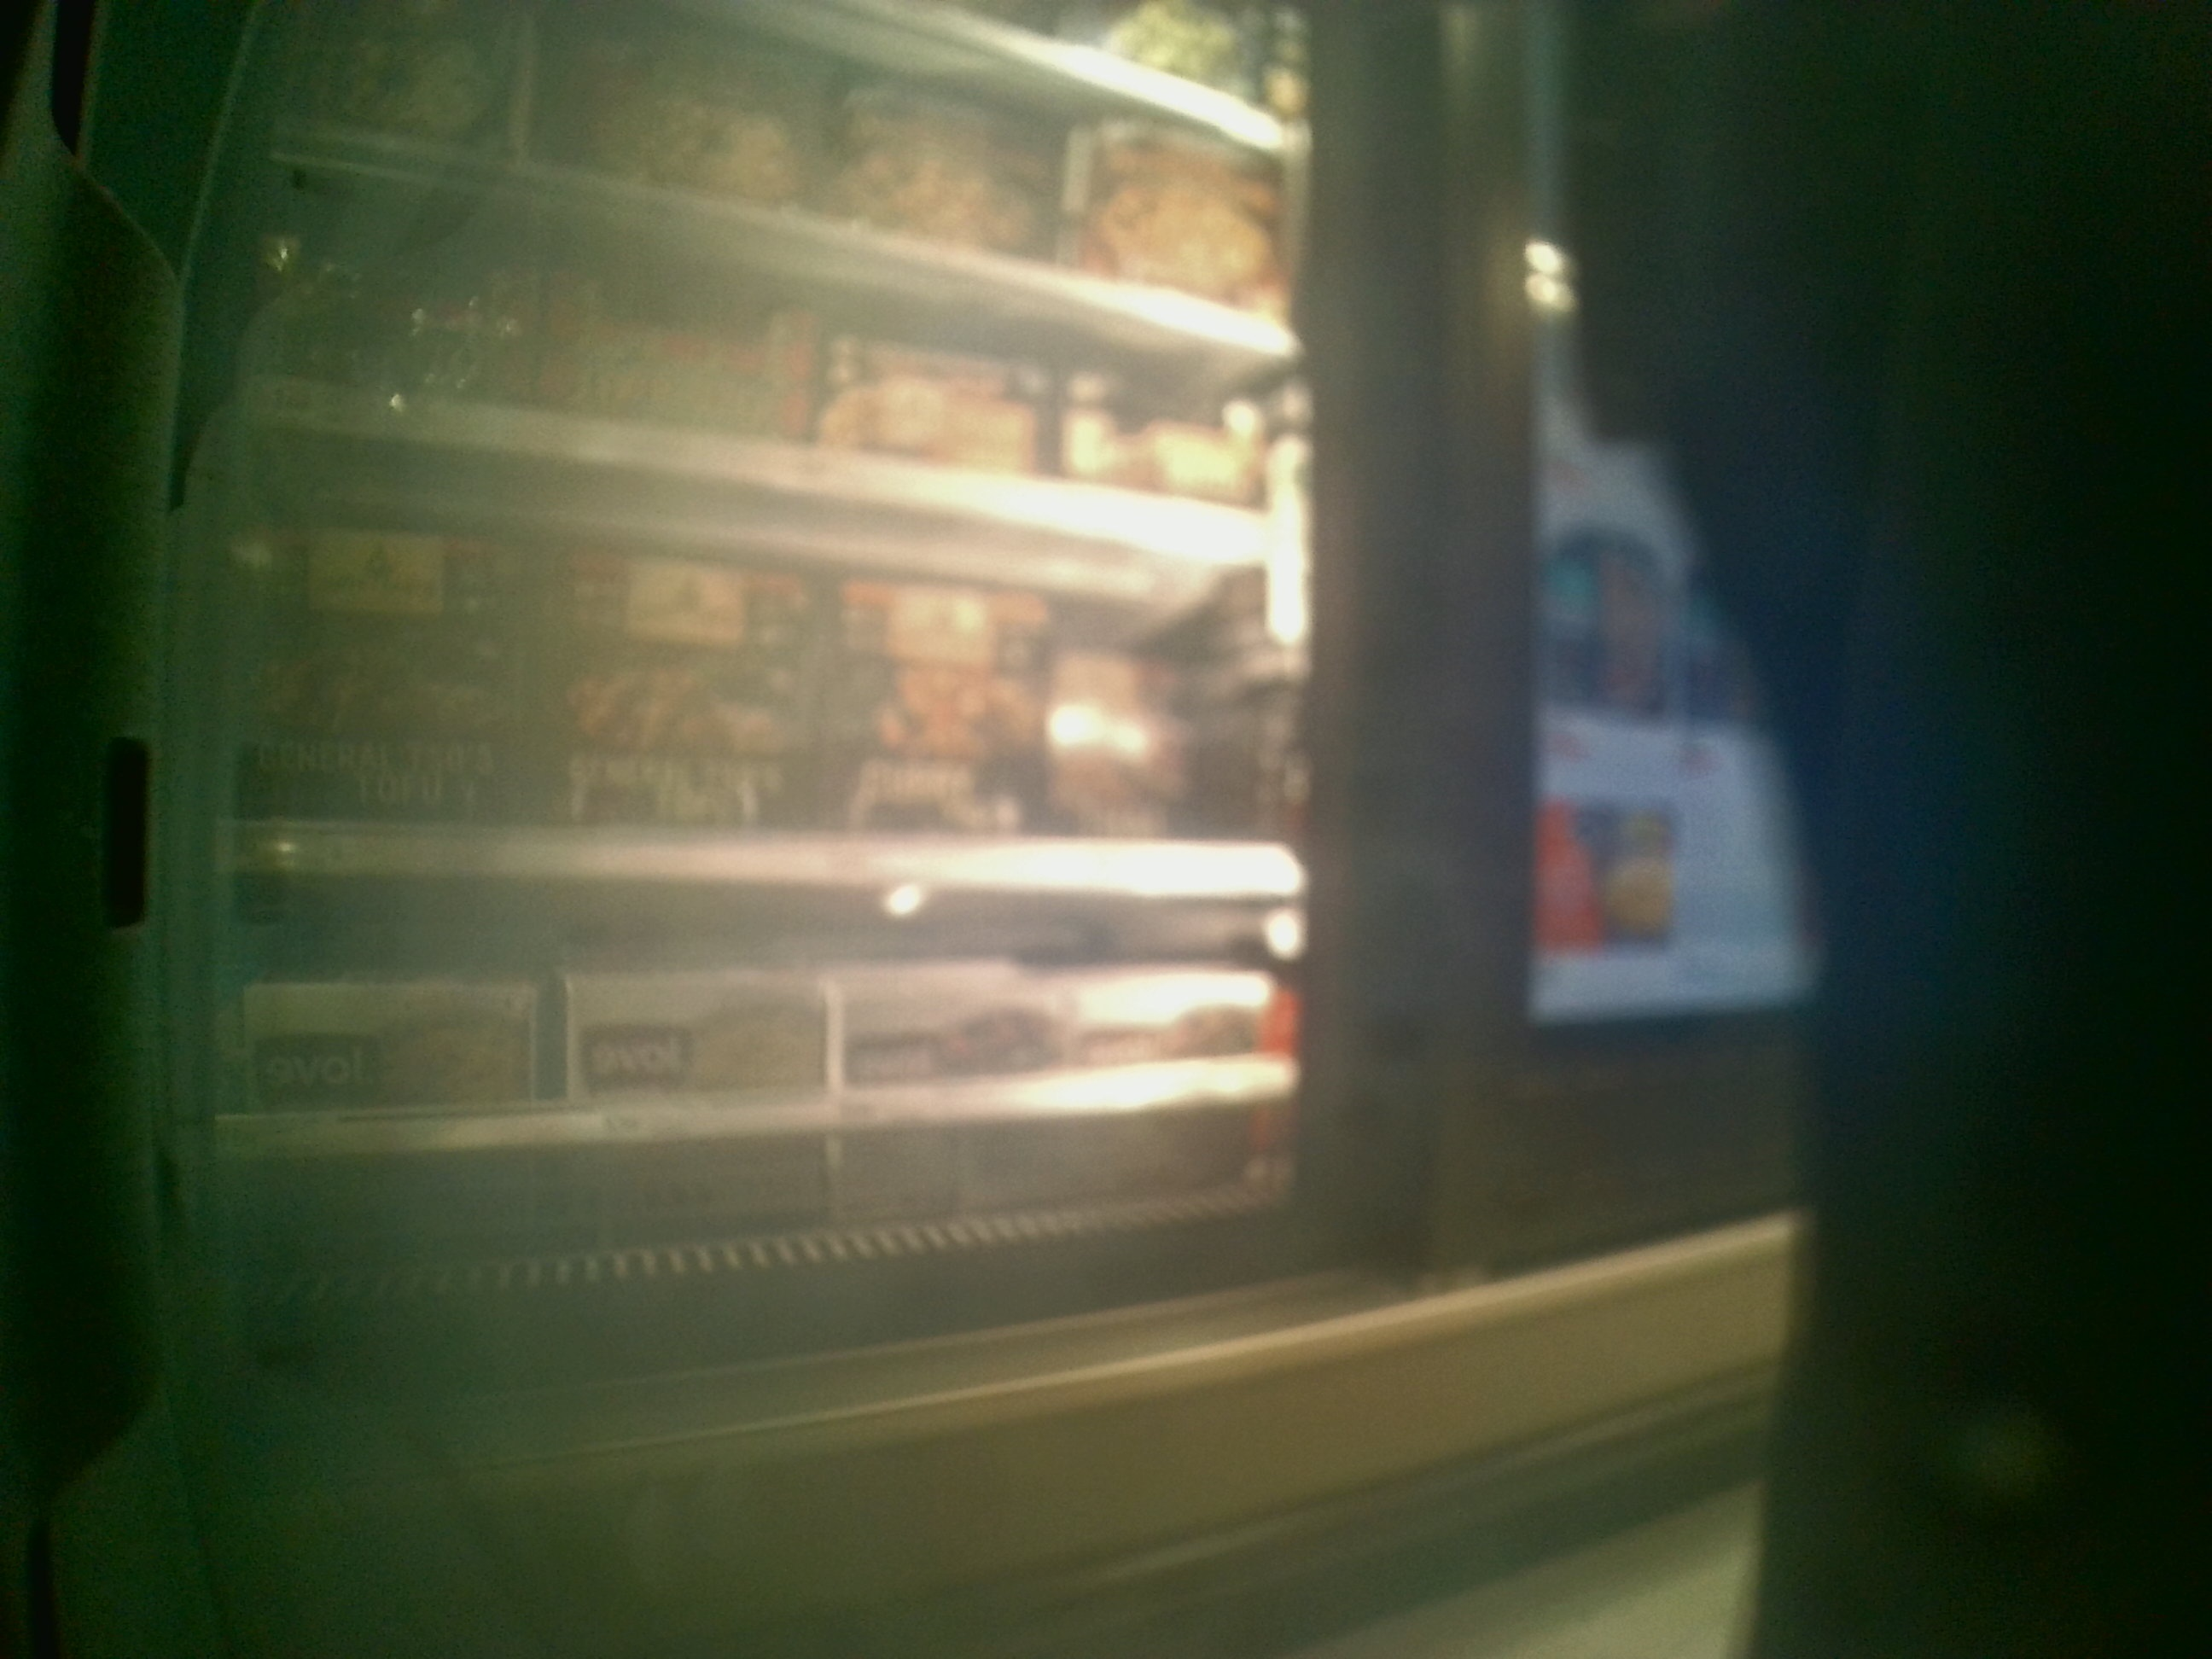frozen-food-shelf: (120, 899, 1315, 1161)
